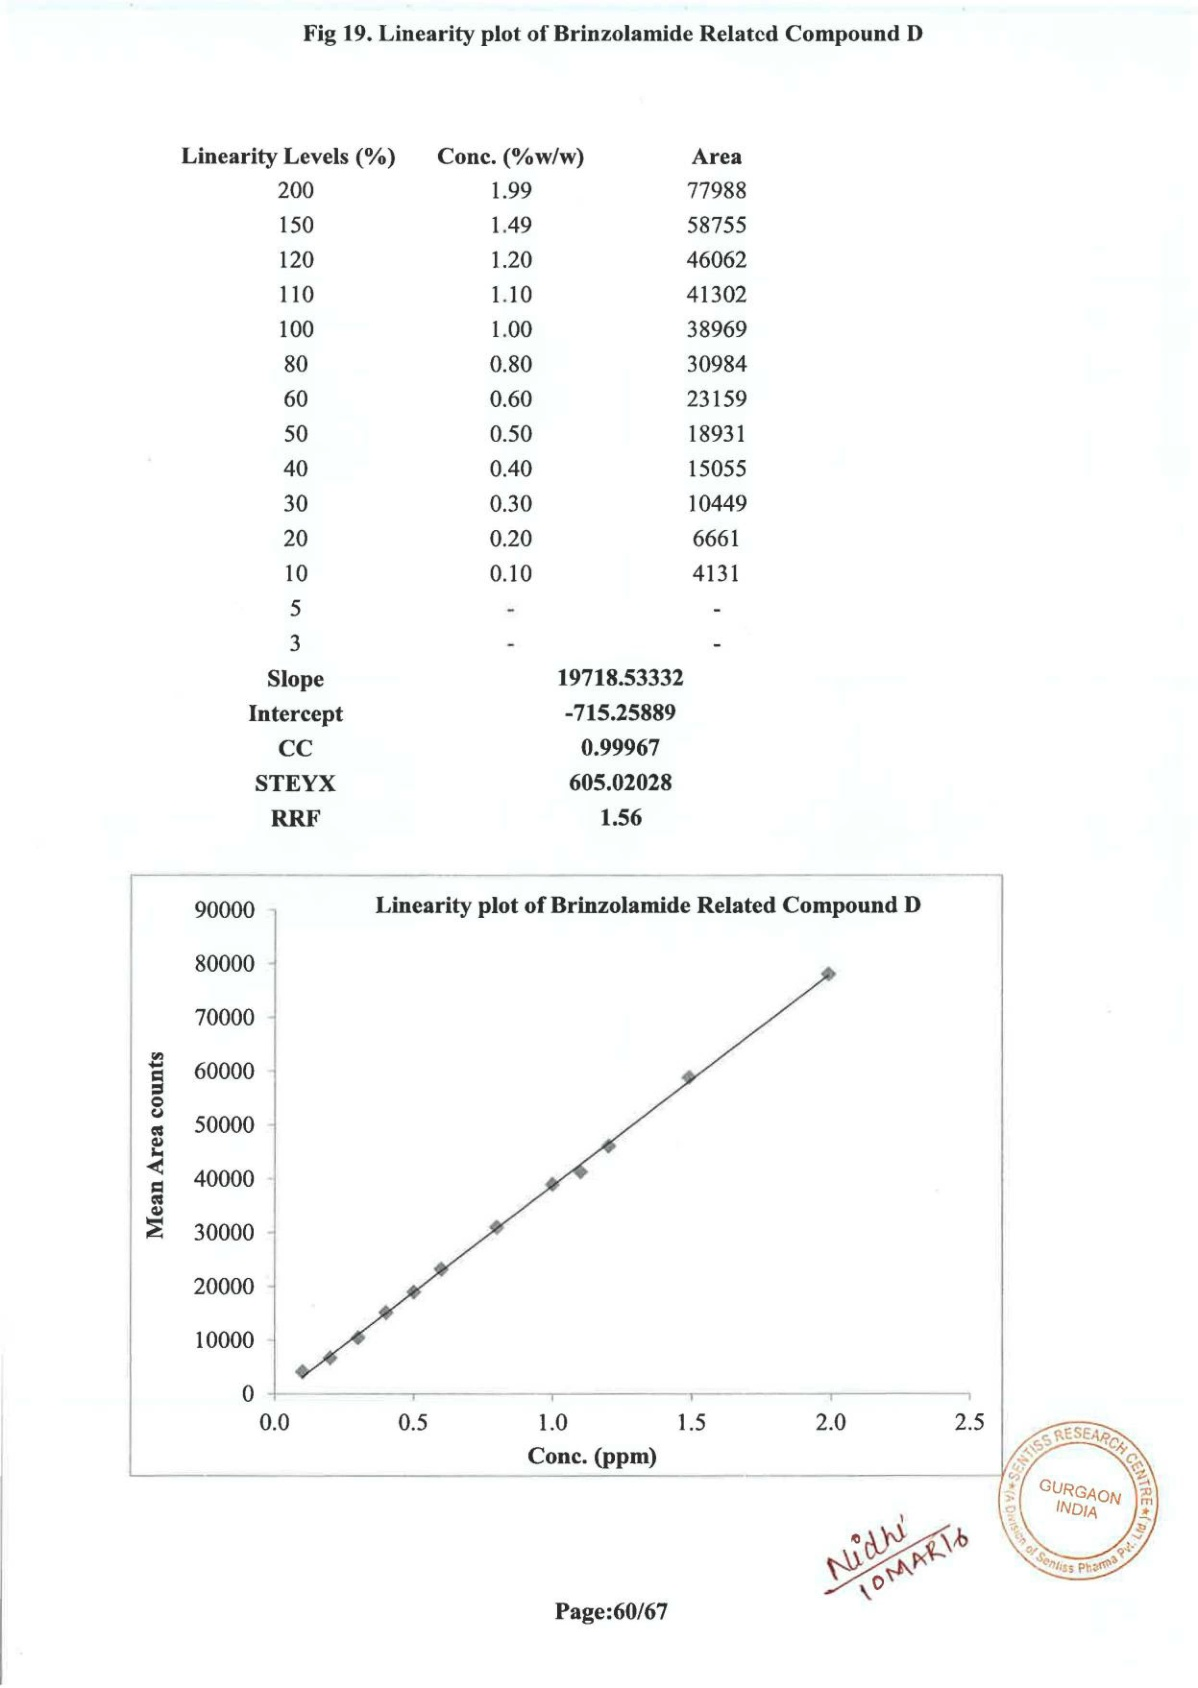nolines: (180, 140, 751, 662), (249, 668, 685, 828)
